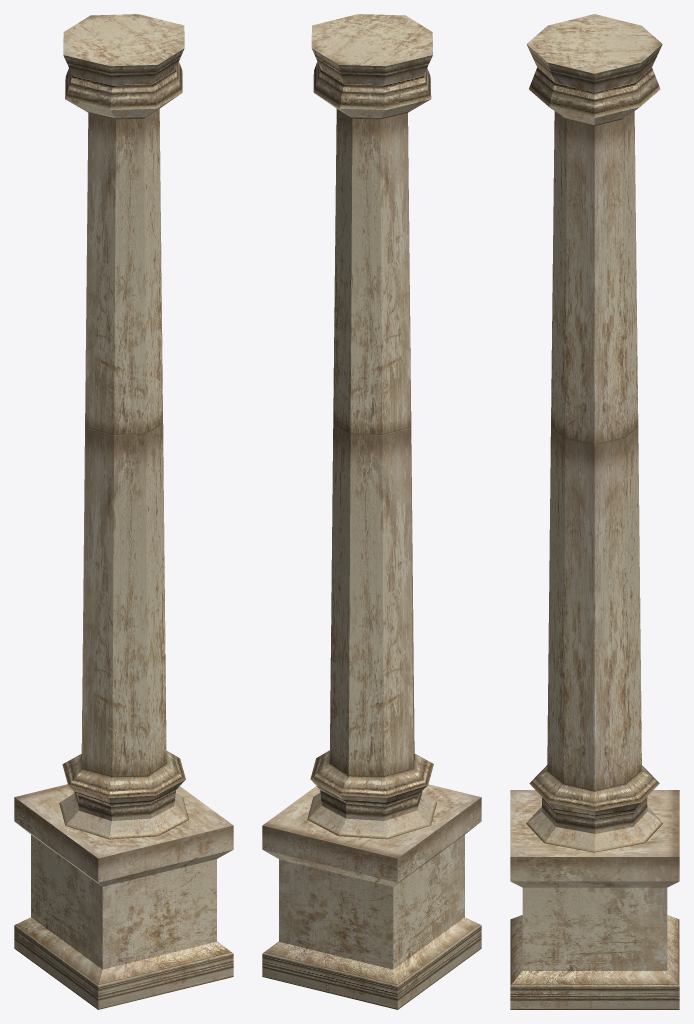
File: svspartapillar1.dae
3 renders of one model, left to right at view 1: azimuth 30°, elevation 25°; view 2: azimuth 150°, elevation 25°; view 3: azimuth 270°, elevation 25°, orthographic.
Visible parts, largest first — view 1: cylinder4_sep49-0; view 2: cylinder4_sep49-0; view 3: cylinder4_sep49-0.
Boxes of the visible parts, bbox=[...] form: cylinder4_sep49-0: bbox=[14, 14, 233, 1009]; cylinder4_sep49-0: bbox=[262, 14, 481, 1009]; cylinder4_sep49-0: bbox=[510, 14, 679, 1009].
Size of the model in its own units: 115 by 750 by 124.
